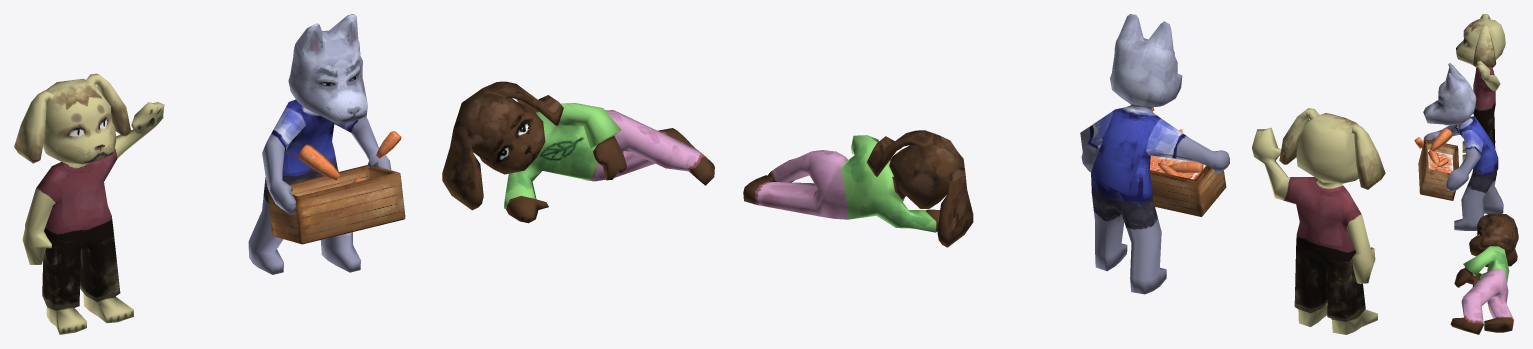
The model's file is doggos1.fbx.
3 renders of one model, left to right at view 1: azimuth 30°, elevation 25°; view 2: azimuth 150°, elevation 25°; view 3: azimuth 270°, elevation 25°, orthographic. The views are drawn at different scales.
Parts seen in each view (by area): view 1: DOG1, DOG3, DOG2, box, carrots_3D; view 2: DOG2, DOG1, DOG3, box, carrots_3D; view 3: DOG2, DOG3, DOG1, box, carrots_3D, carrots_2D.
Boxes of the visible parts, x1,y1,x2,y2 form: DOG1: [14, 73, 164, 334]; DOG3: [442, 81, 714, 223]; DOG2: [248, 14, 391, 274]; box: [267, 165, 405, 244]; carrots_3D: [297, 131, 401, 182]; DOG2: [1080, 14, 1229, 294]; DOG1: [1252, 108, 1385, 334]; DOG3: [743, 130, 973, 247]; box: [1149, 151, 1226, 216]; carrots_3D: [1151, 107, 1203, 176]; DOG2: [1423, 63, 1503, 230]; DOG3: [1450, 213, 1518, 334]; DOG1: [1456, 14, 1505, 161]; box: [1418, 139, 1458, 200]; carrots_3D: [1414, 128, 1452, 173]; carrots_2D: [1428, 150, 1453, 172].
Size of the model in its own units: 518 by 194 by 118.
Materials: 6 (6 with a texture image).
